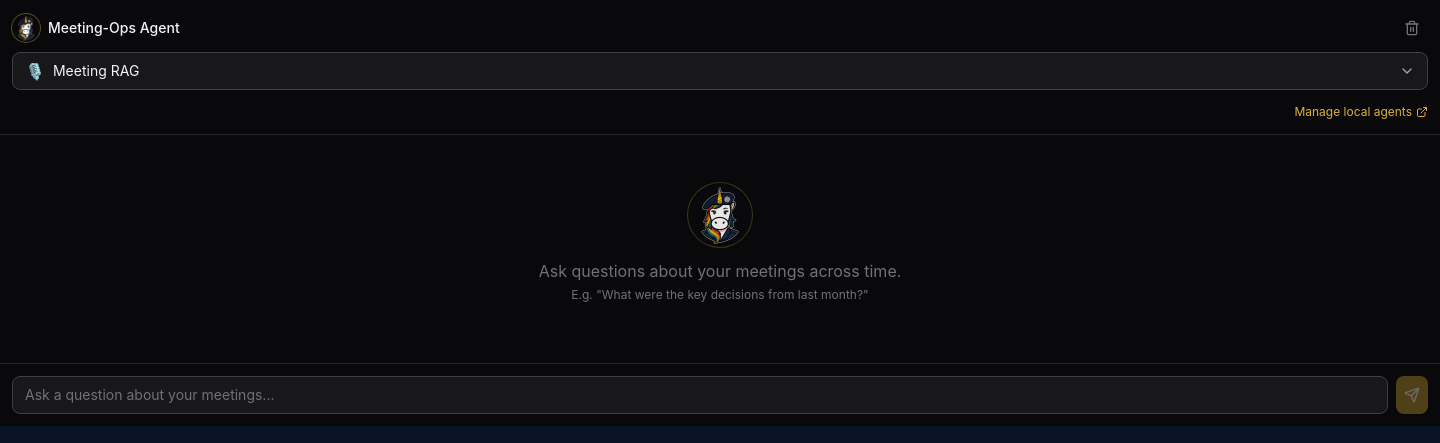
RAGChat › renders streamed answer chunks back to the user
Type "Summarize this." into the field with placeholder "Ask a question about your meetings..." at (700, 395), box [12, 376, 1388, 414]
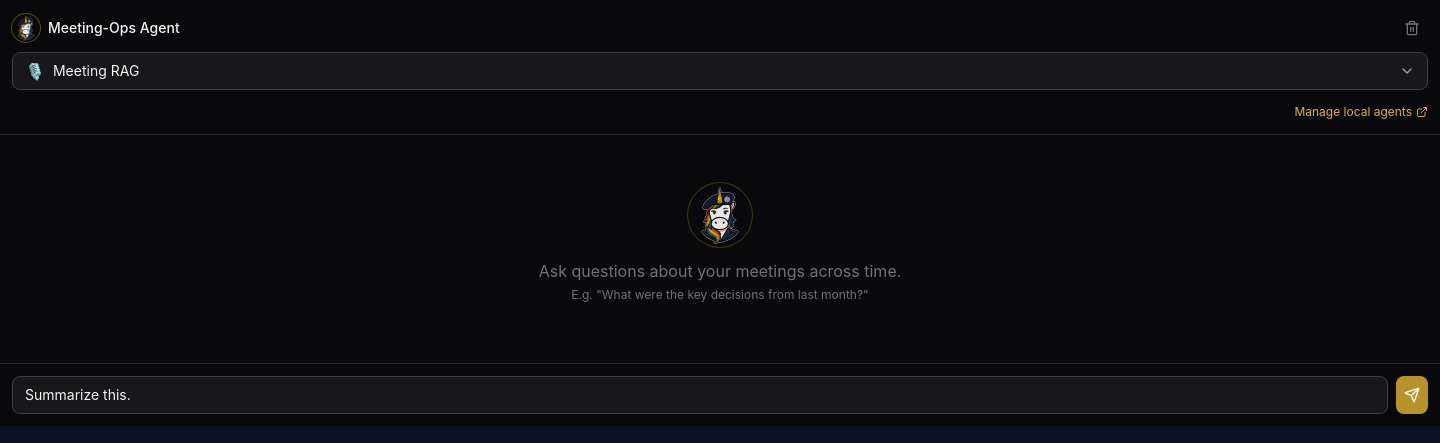
Press Enter in the field with placeholder "Ask a question about your meetings...", box [12, 376, 1388, 414]
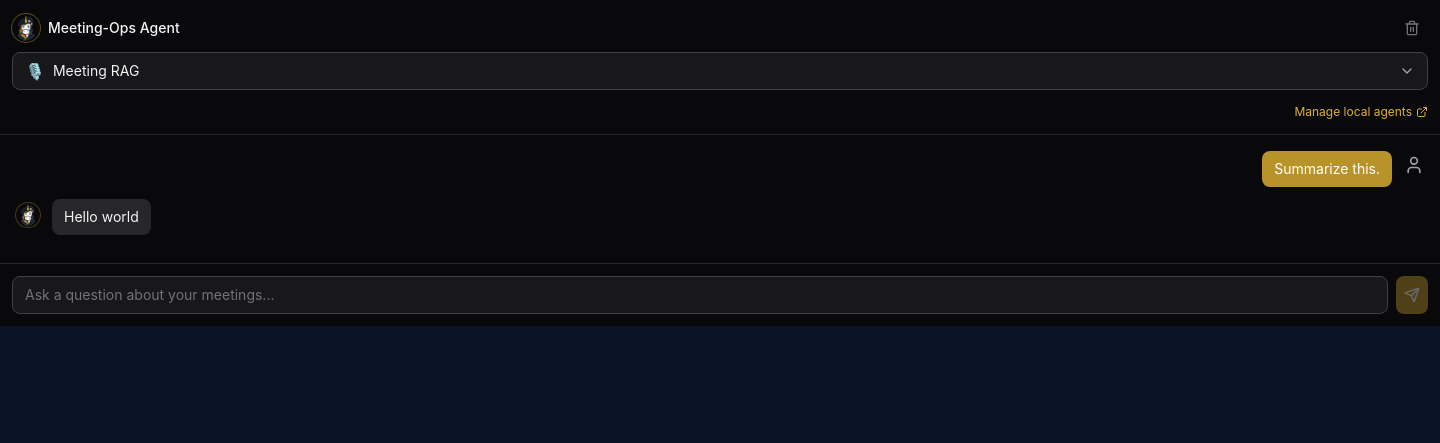
Result: the text "Hello world" is shown at [64, 207, 139, 227]
